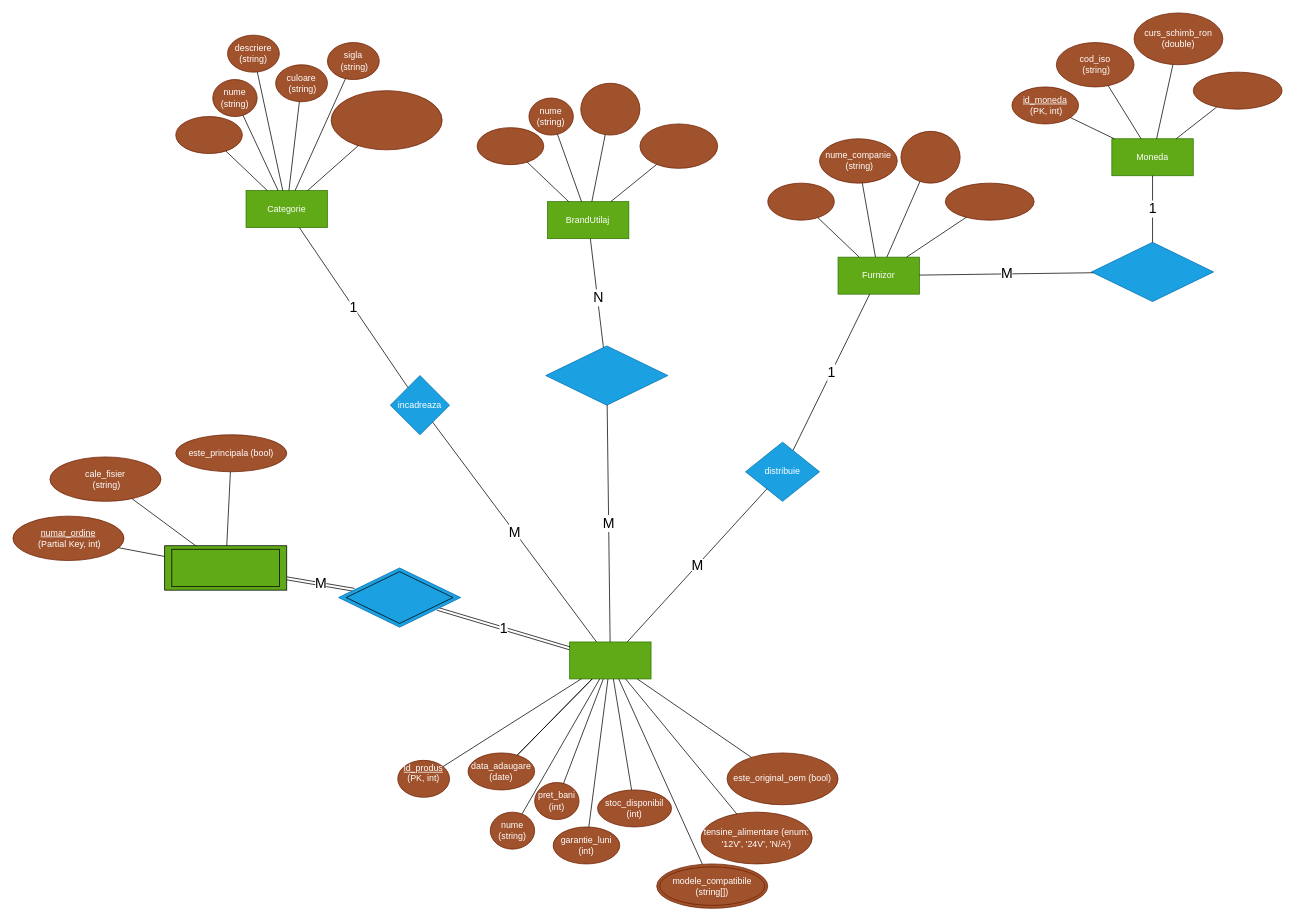
Image size: 1295x921. Some labels were removed from this diagram. The box of each missing label's shape, as (x1, y1, x2, y2) in pixels:
are: (345, 571, 453, 623)
compatibil cu: (545, 345, 668, 405)
data_actualizare (date): (1193, 71, 1282, 109)
id_brand (PK, int): (476, 127, 544, 165)
id_categorie (PK, int): (175, 116, 242, 154)
id_furnizor (PK, int): (767, 182, 834, 220)
ImagineProdus: (171, 548, 280, 587)
necesita_montaj_autorizat (bool): (330, 90, 442, 150)
Produs: (569, 641, 651, 679)
tara (string): (900, 131, 960, 183)
tara_origine (string): (580, 83, 640, 135)
timp_livrare_zile (int): (945, 182, 1034, 220)
utilizata de: (1091, 242, 1214, 302)
website_oficial (string): (639, 123, 718, 168)
